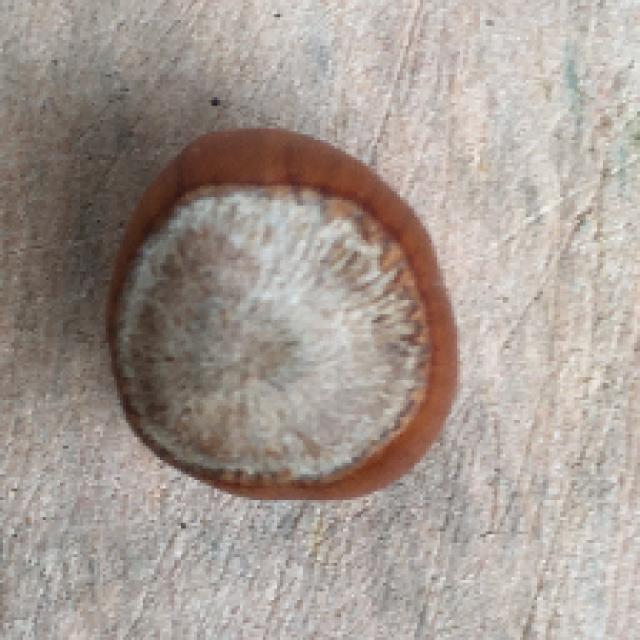qualityHazelnut: (104, 119, 462, 508)
